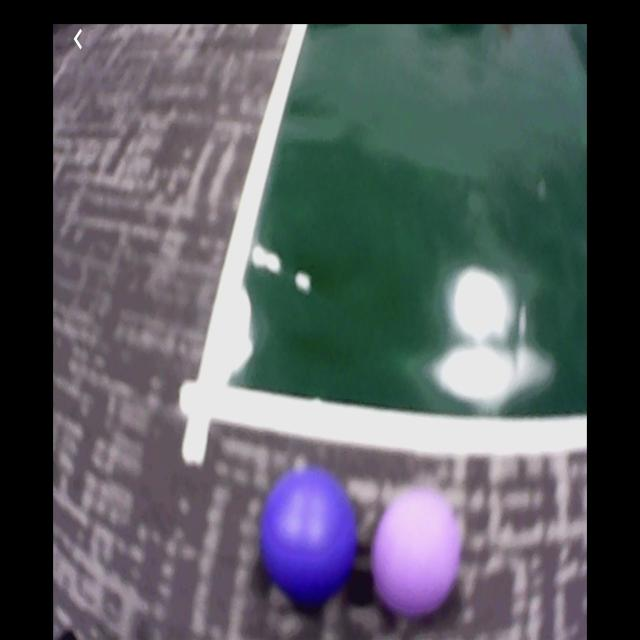ball: (264, 470, 358, 606), (373, 491, 460, 615)
